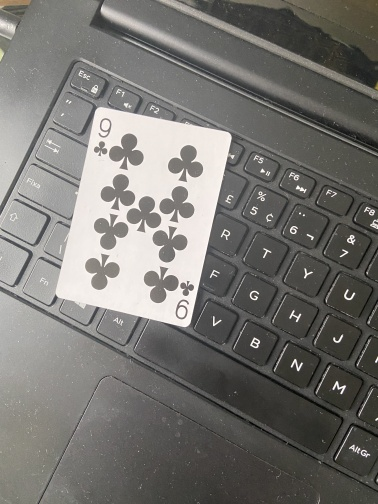nine: (54, 106, 234, 329)
